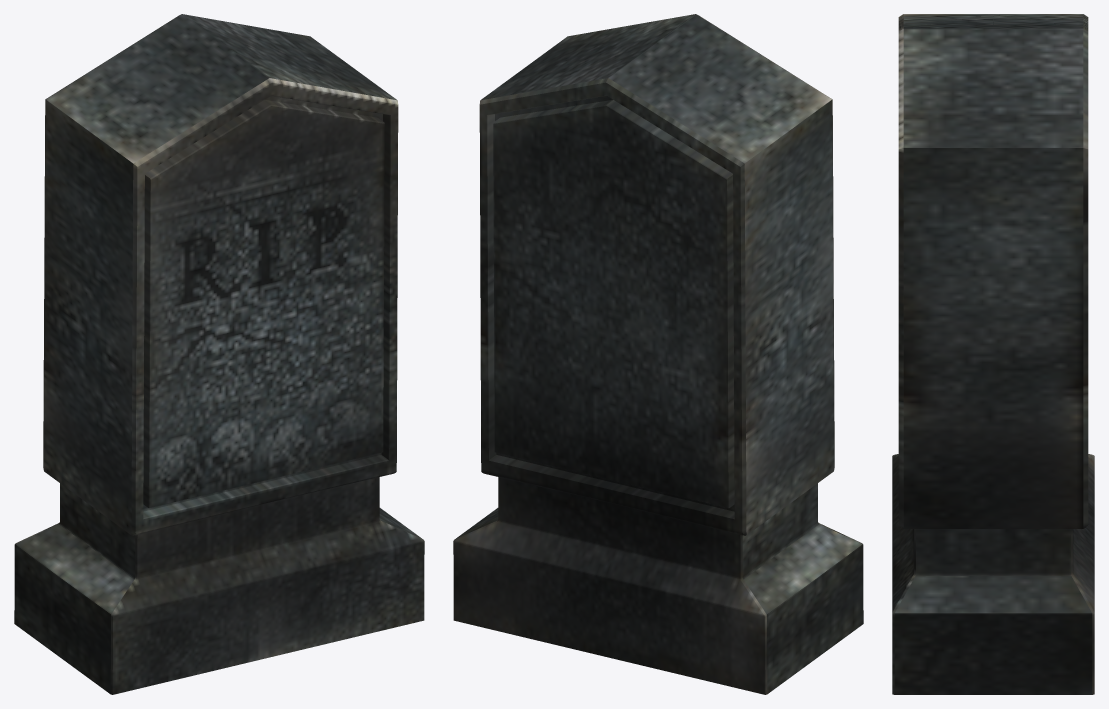
File: graveA.fbx
3 renders of one model, left to right at view 1: azimuth 30°, elevation 25°; view 2: azimuth 150°, elevation 25°; view 3: azimuth 270°, elevation 25°, orthographic. The views are drawn at different scales.
Parts seen in each view (by area): view 1: polySurface2243; view 2: polySurface2243; view 3: polySurface2243.
Boxes of the visible parts, x1,y1,x2,y2 form: polySurface2243: (14,14,424,694); polySurface2243: (453,14,863,694); polySurface2243: (892,14,1094,694).
Bounding box in the file's own units: 9.49 × 16.62 × 5.15.
